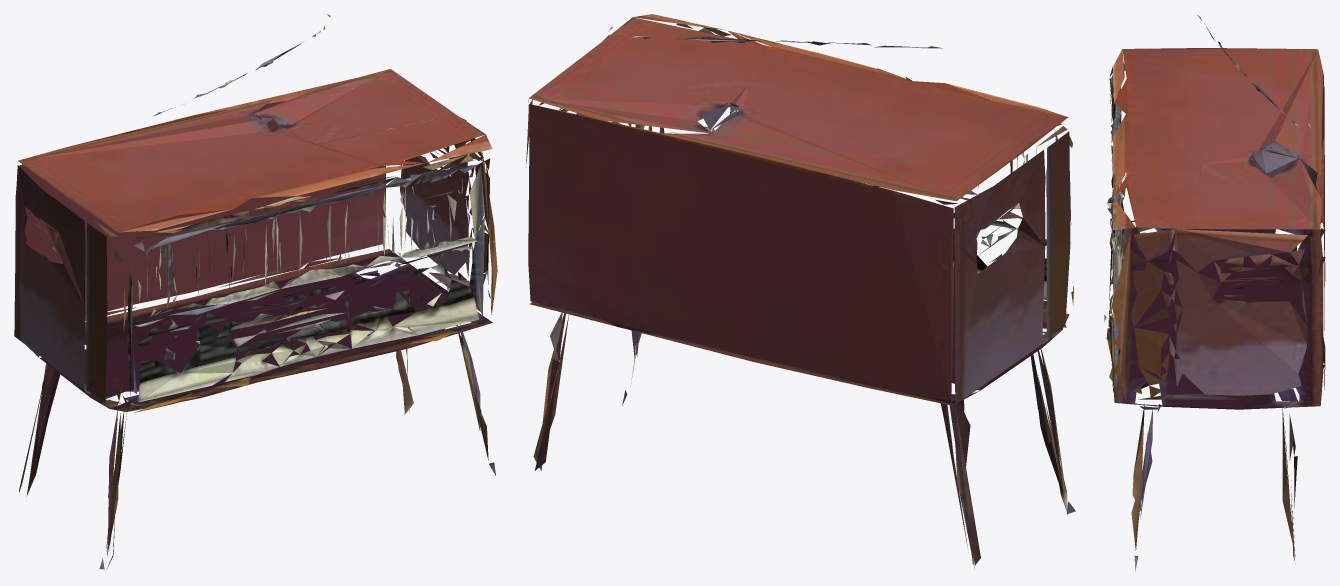
Rendered from radio.glb.
3 views of the same model, side by side, from view 1: azimuth 30°, elevation 25°; view 2: azimuth 150°, elevation 25°; view 3: azimuth 270°, elevation 25° (orthographic). The views are drawn at different scales.
Parts seen in each view (by area): view 1: world; view 2: world; view 3: world.
Boxes of the visible parts, bbox=[...] form: world: bbox=[14, 14, 497, 569]; world: bbox=[526, 14, 1075, 568]; world: bbox=[1104, 15, 1325, 571].
Bounding box in the file's own units: 1.96 × 1.96 × 0.9587.
Materials: 1 (1 with a texture image).
